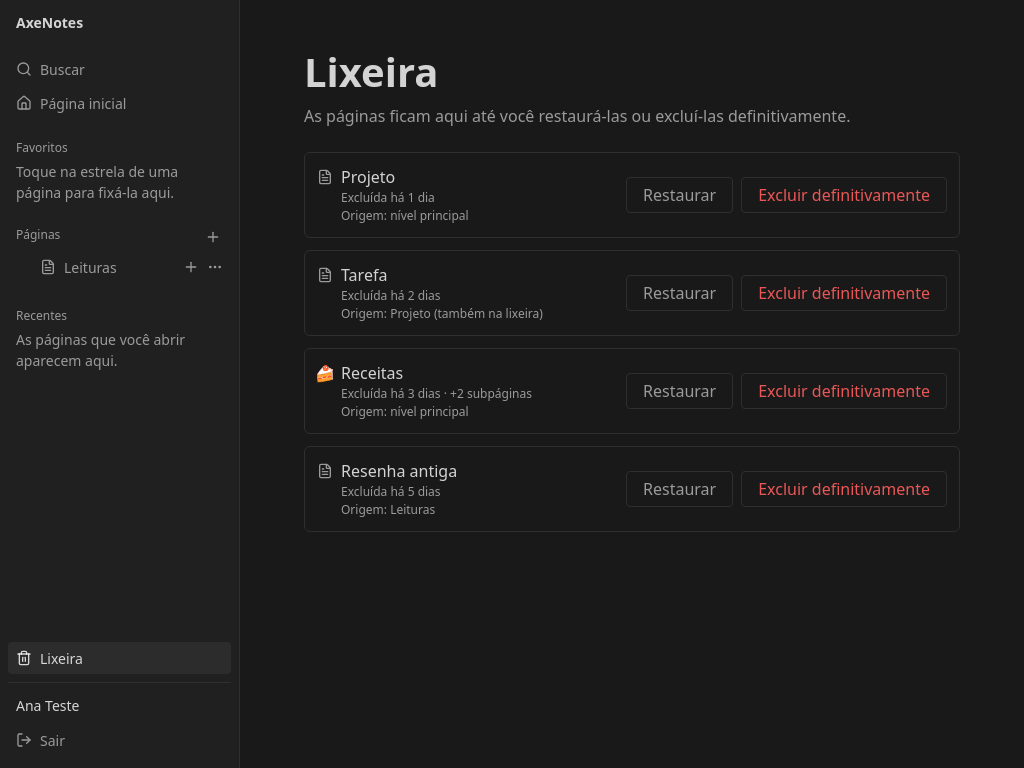
Test case: restaurar › has its own message for missing permission and a generic one for the rest
Step 1. Click the button with aria-label "Restaurar Receitas" → (680, 391), box [626,373,733,409]
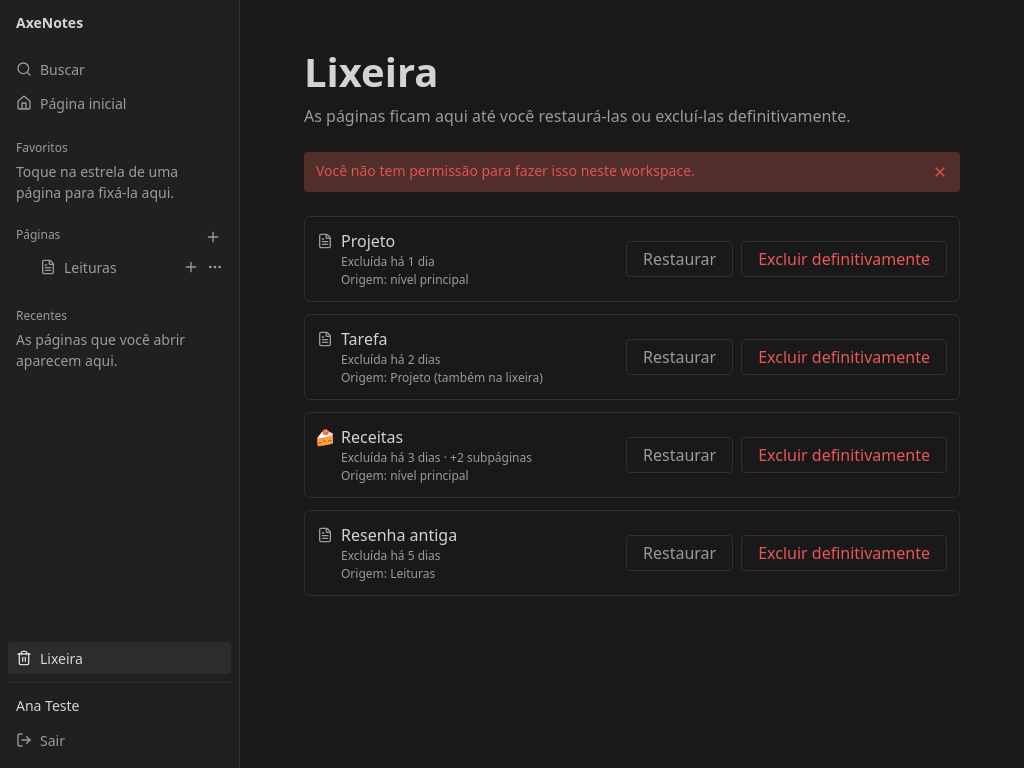
Now the message reads "Você não tem permissão para fazer isso neste workspace.", box [316,161,695,180]
Step 2. Click the button with aria-label "Restaurar Receitas" → (680, 455), box [626,437,733,473]
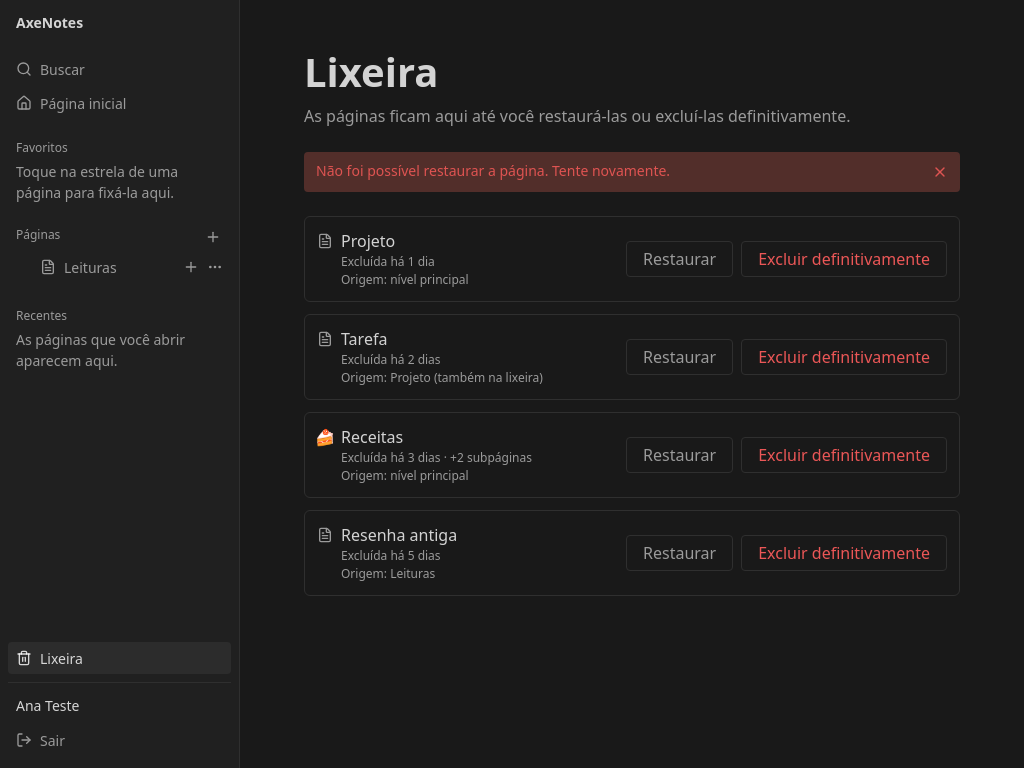
Now the message reads "Não foi possível restaurar a página. Tente novamente.", box [316,161,670,180]
Step 3. Click the button named "Dispensar aviso" → (940, 172), box [924,156,956,188]
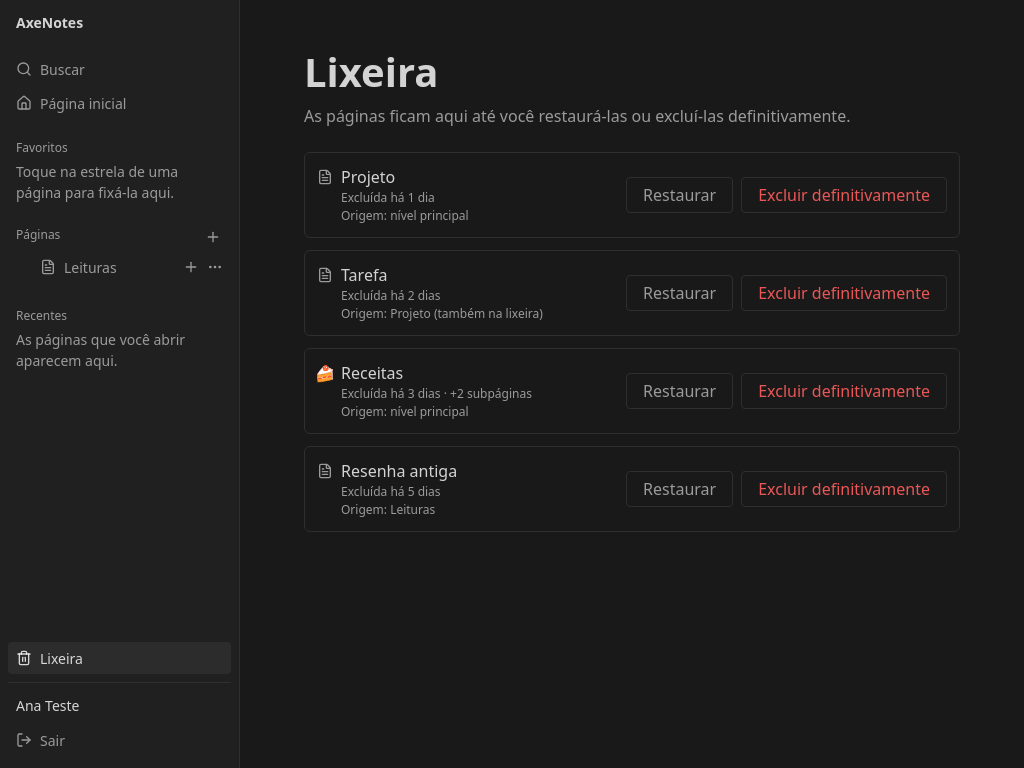
Now the message "Não foi possível restaurar a página. Tente novamente." is gone
